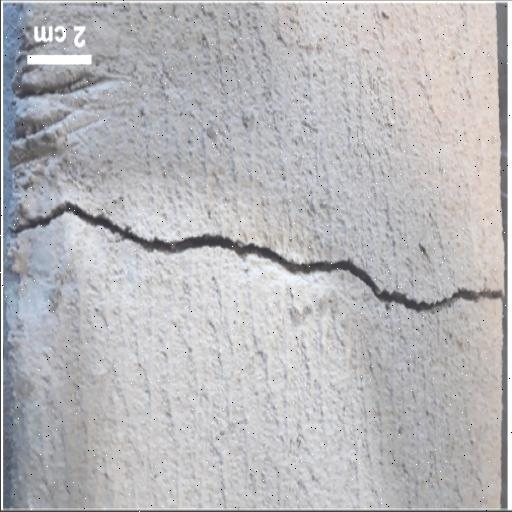cracks: (12, 169, 496, 319)
